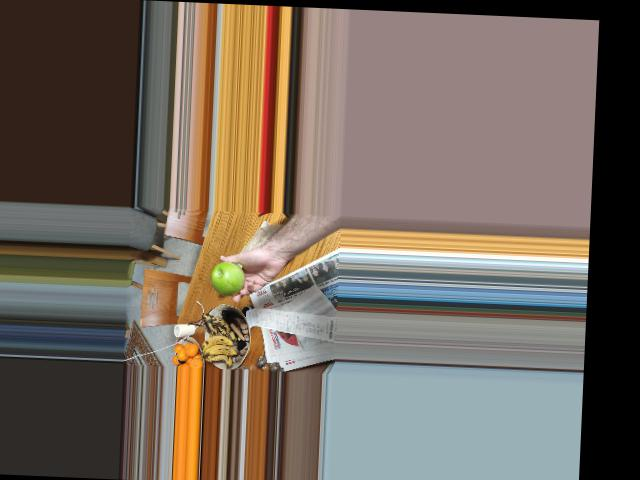apple: (206, 258, 250, 297)
